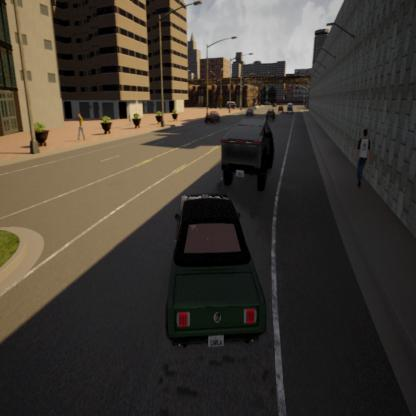Cars: (154, 191, 276, 362), (210, 112, 280, 198), (204, 111, 221, 126), (264, 103, 277, 122), (285, 100, 296, 115), (245, 105, 255, 119), (277, 103, 284, 114)
Pedestrian: (348, 123, 375, 195)
